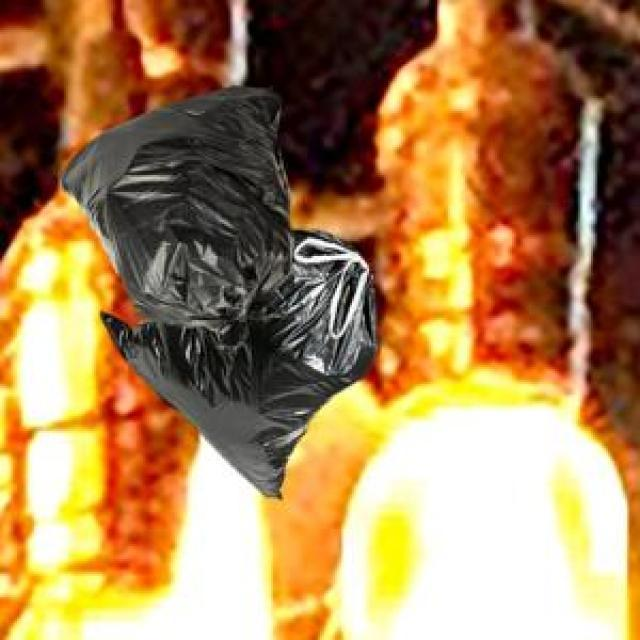waste: (62, 88, 375, 494)
